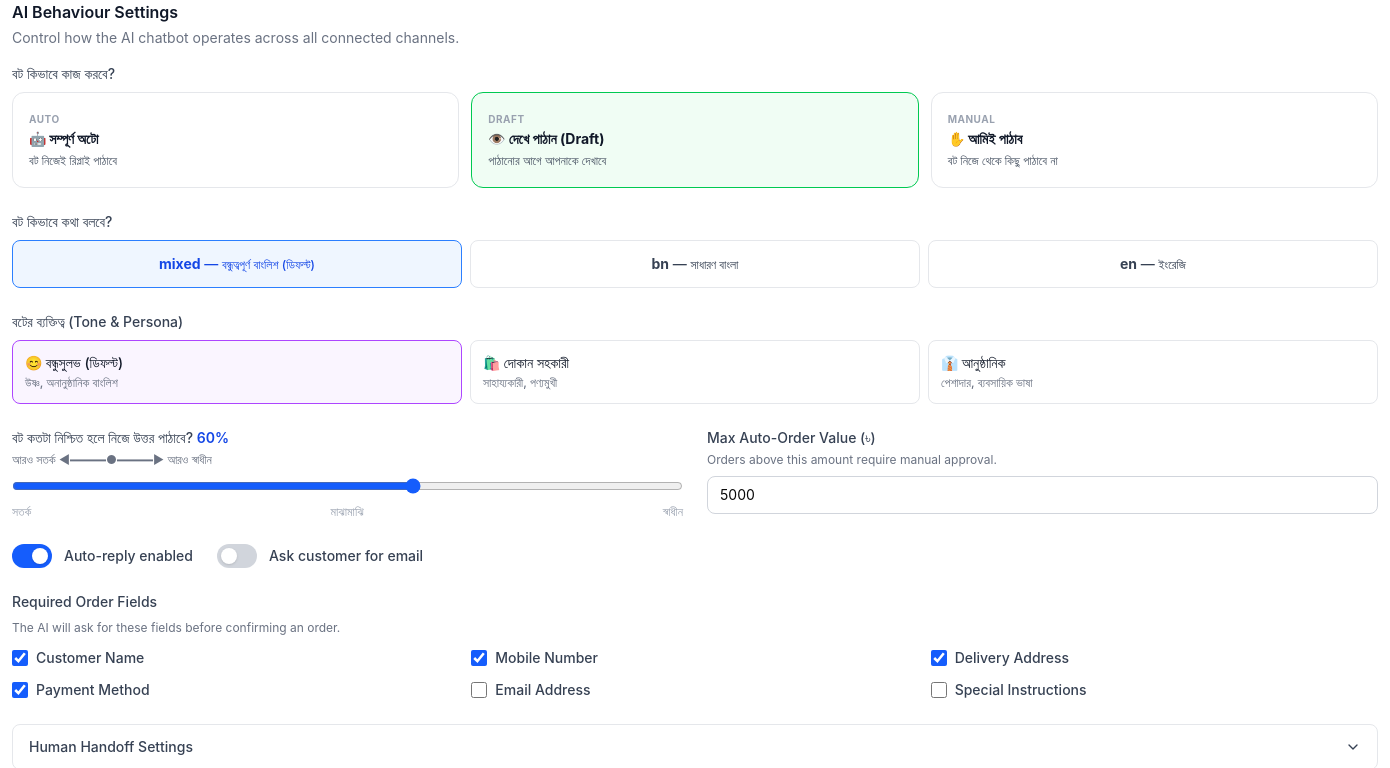
Scenario: AISettingsForm › shows success notice after save
The width and height of the screenshot is (1390, 768).
Replace the text in the number field labelled "Max Auto-Order Value (৳)" with "10000". click: (1042, 495)
box: [707,476,1378,514]
(page scrolled)
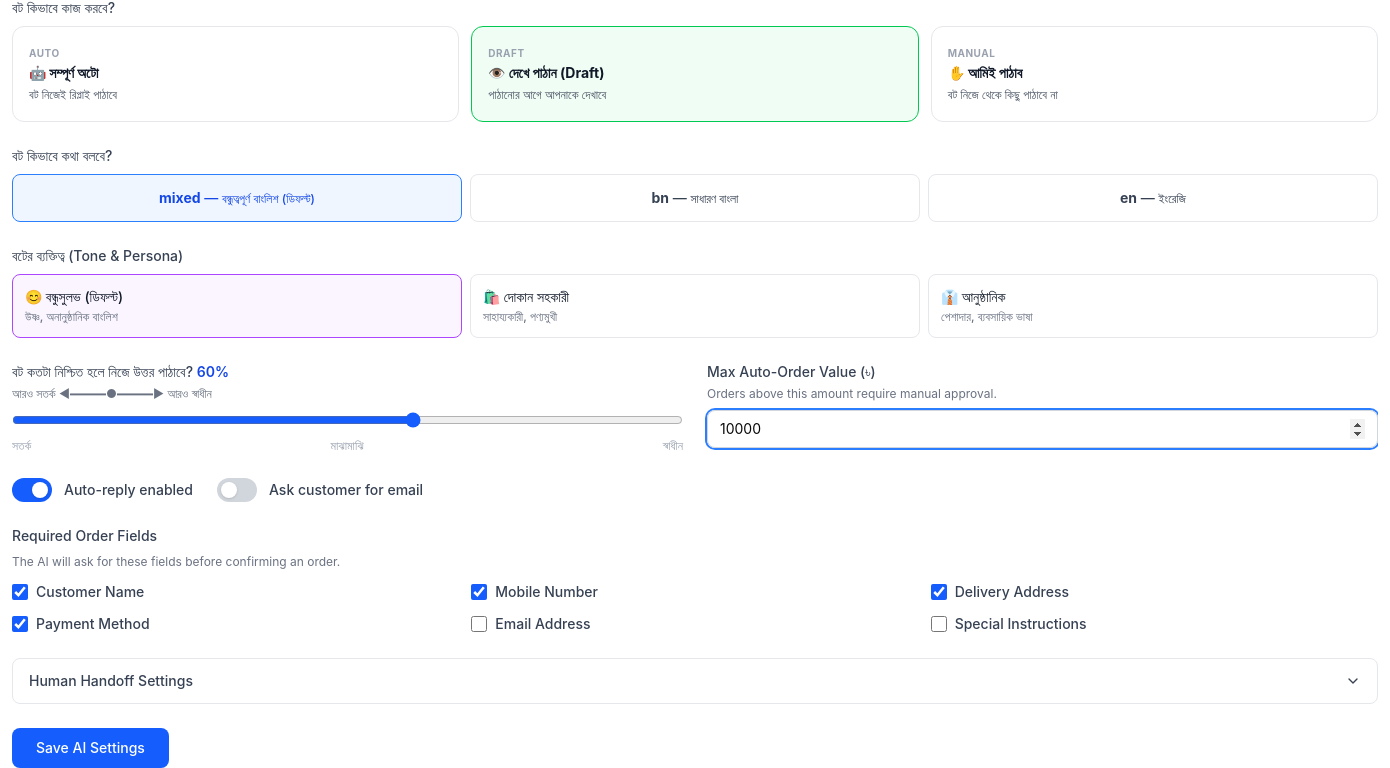
Click the button "Save AI Settings". click: (90, 748)
box: [12,728,169,767]
(page scrolled)
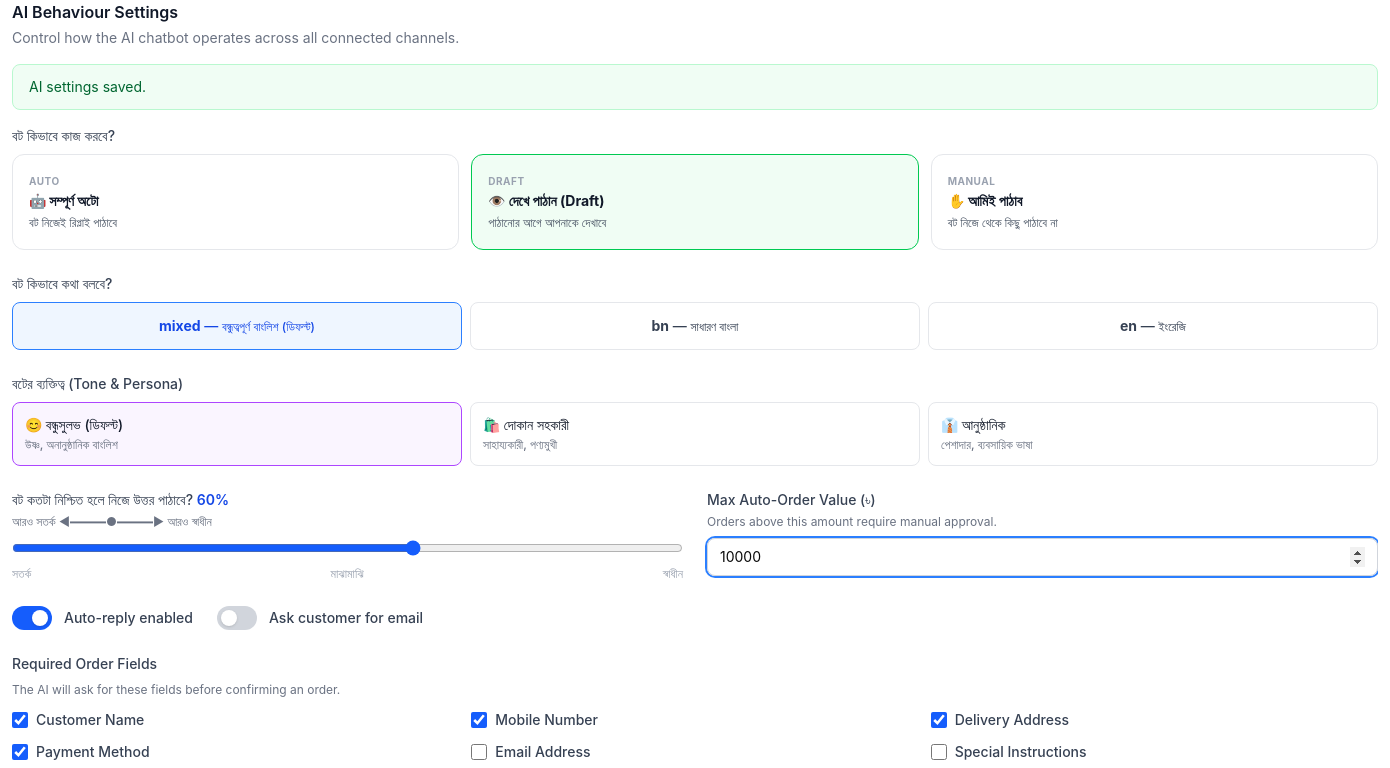
Expected: the text "AI settings saved." is shown, [12,64,1378,110]
